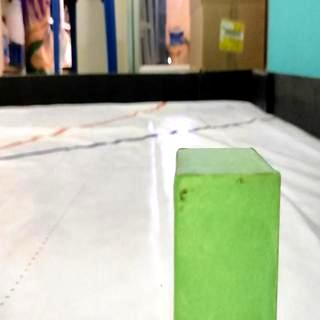greenbox: (170, 144, 282, 320)
